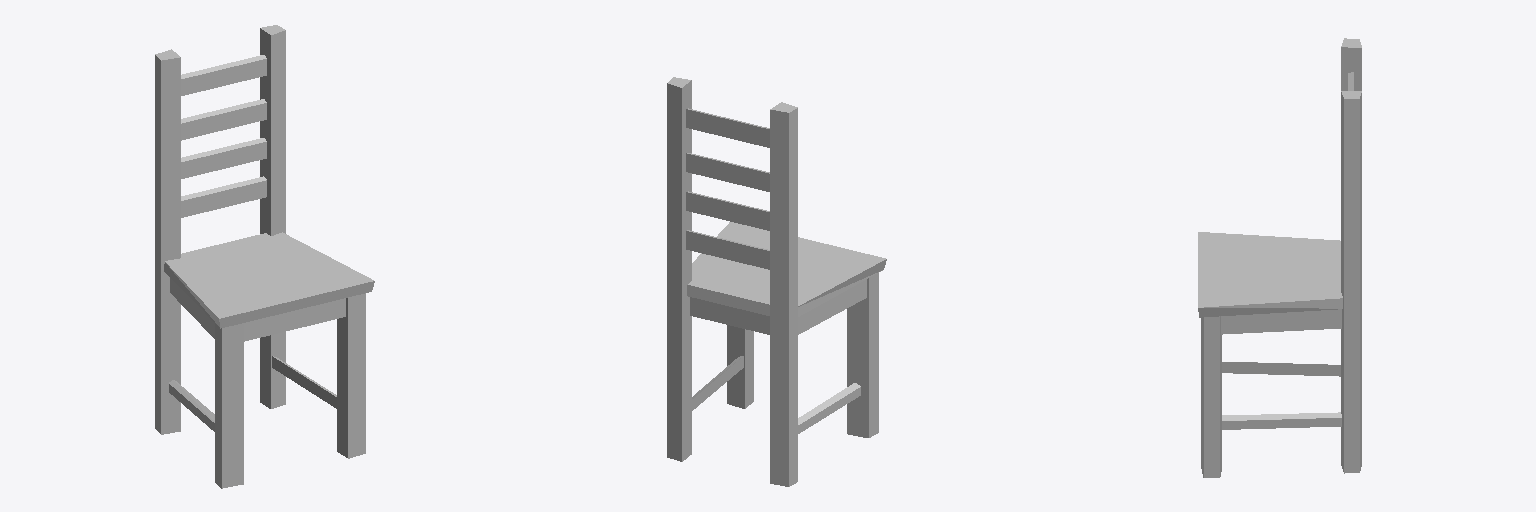
The picture shows the model from 3 angles: view 1: azimuth 30°, elevation 25°; view 2: azimuth 150°, elevation 25°; view 3: azimuth 270°, elevation 25°; orthographic projection.
Parts seen in each view (by area): view 1: Chair_mesh; view 2: Chair_mesh; view 3: Chair_mesh.
Boxes of the visible parts, <box> form: Chair_mesh: <box>155,25,374,488</box>; Chair_mesh: <box>667,77,886,486</box>; Chair_mesh: <box>1198,38,1361,477</box>.
Bounding box in the file's own units: 2.71 × 6.21 × 2.47.